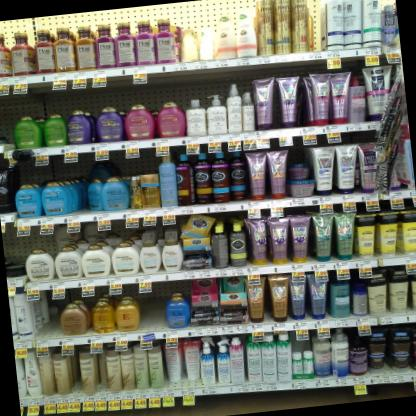empty_space: (140, 292, 167, 331), (49, 310, 61, 337)
